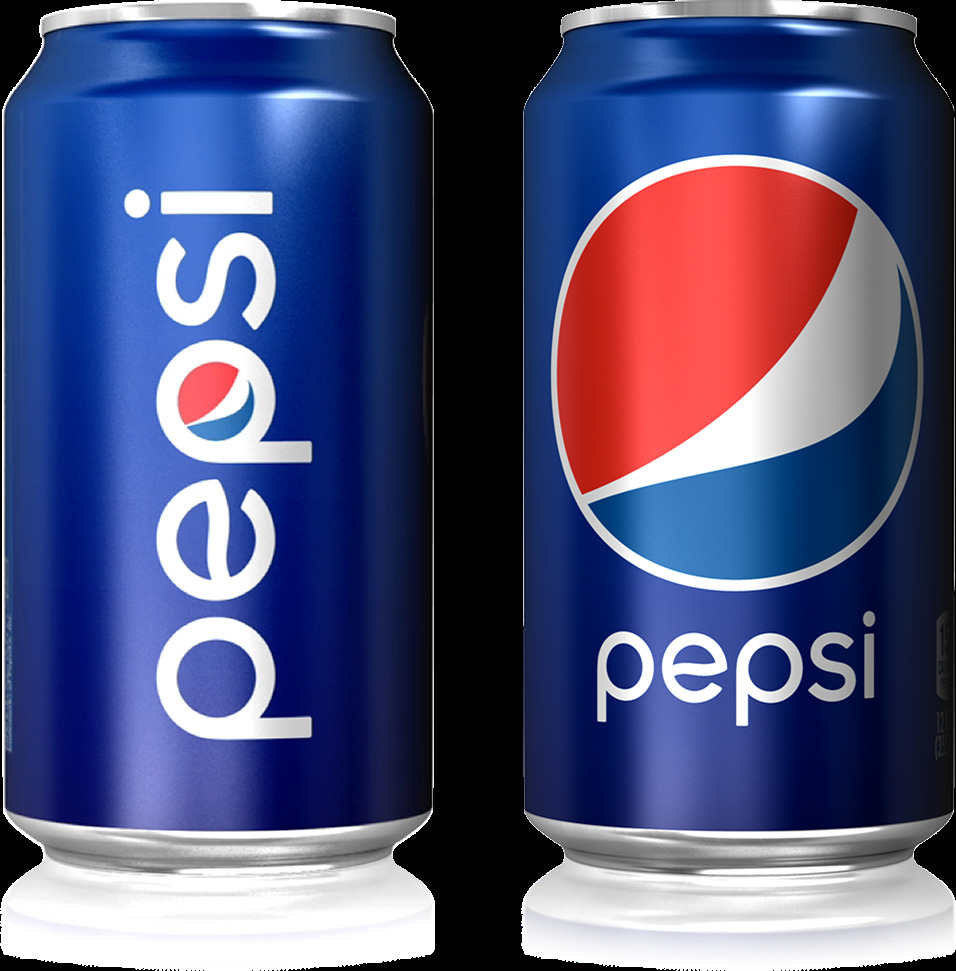pepsi: (514, 22, 952, 899), (5, 5, 431, 863)
